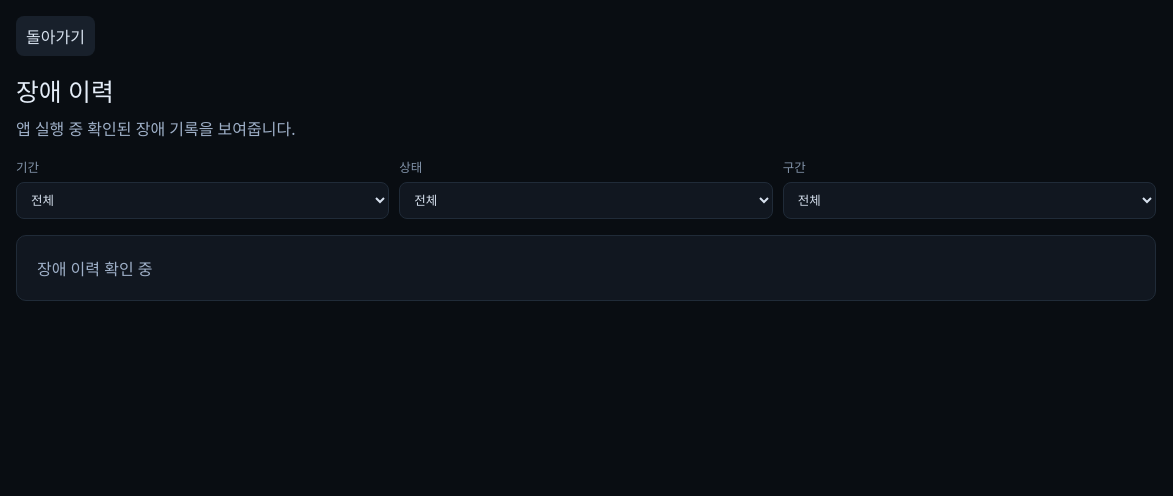
NetworkIncidentHistoryPage › filters by status and area
The width and height of the screenshot is (1173, 496).
Select "복구됨" in the dropdown labelled "상태" at (586,200), box [399,182,773,219]
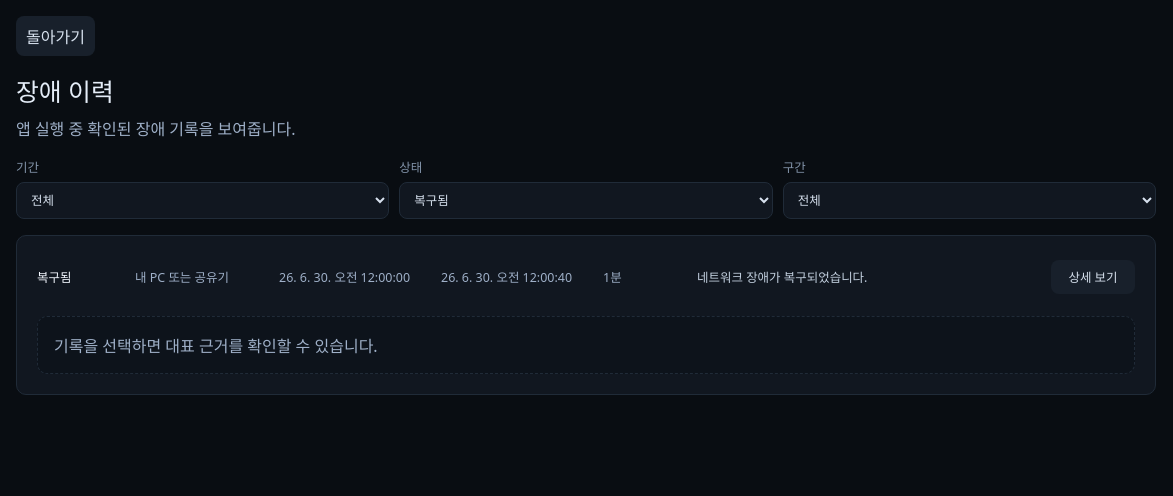
Check: the number of list items is 1, box [37,256,1135,298]
Check: the text "복구됨" is shown, box [37,269,71,286]
Select "전체" in the dropdown labelled "상태" at (586,200), box [399,182,773,219]
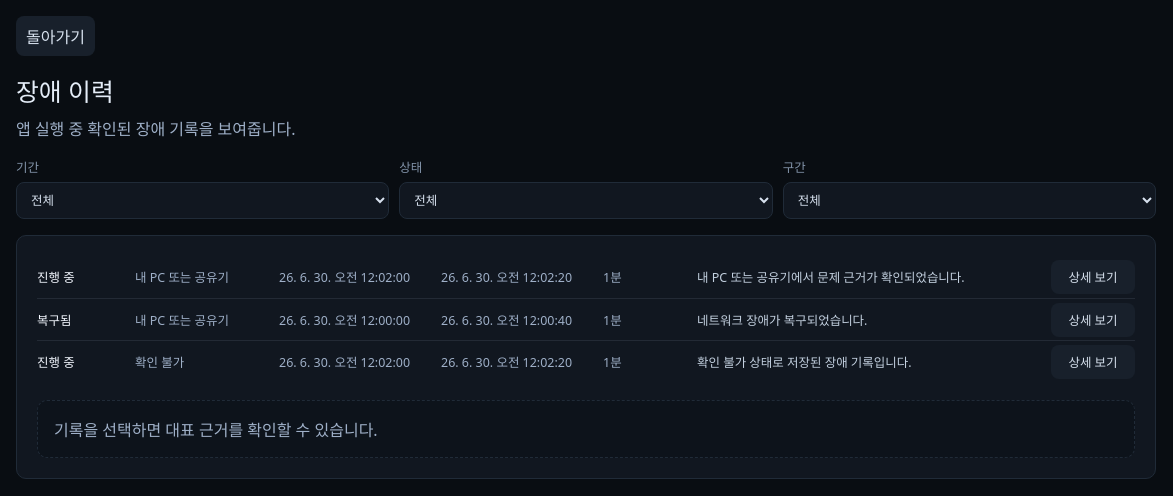
Select "확인 불가" in the dropdown labelled "구간" at (969,200), box [783,182,1156,219]
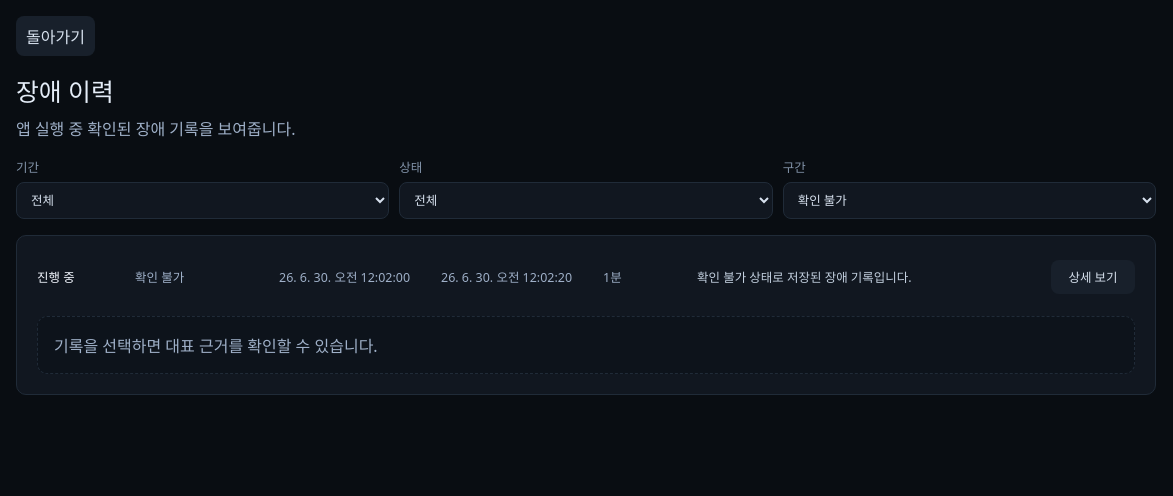
Check: the text "확인 불가" is shown, box [135,269,184,286]
Check: the number of list items is 1, box [37,256,1135,298]
